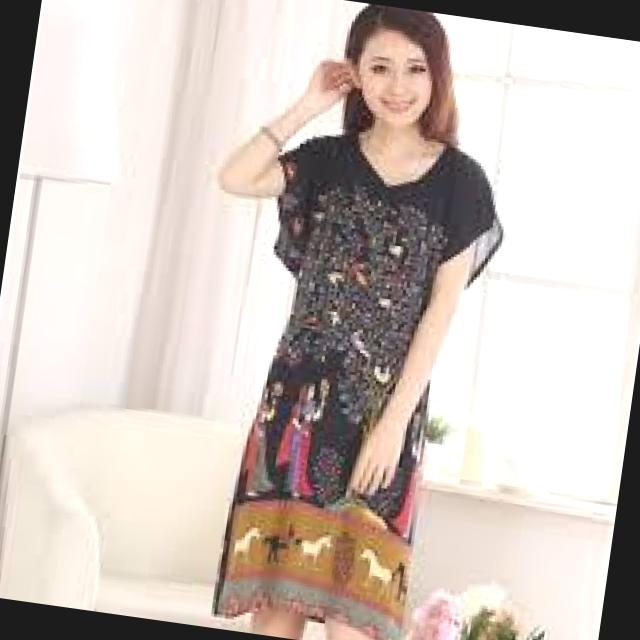dress: (206, 120, 511, 640)
